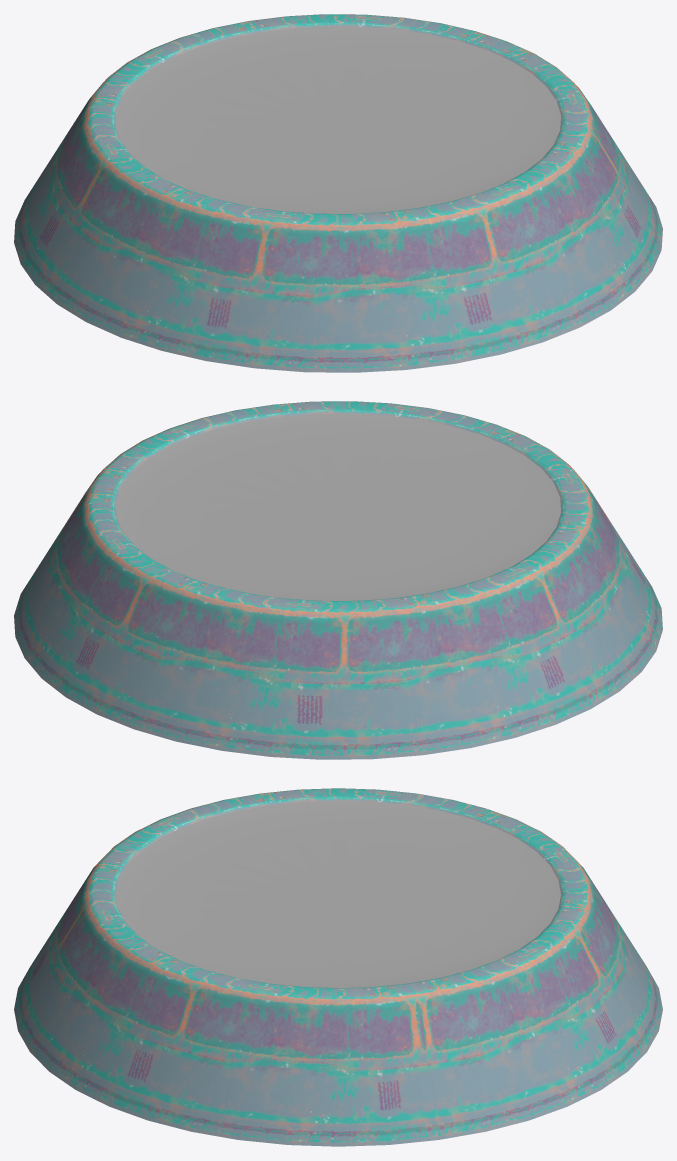
Rendered from platform_small.fbx.
3 views of the same model, one above another, from view 1: azimuth 30°, elevation 25°; view 2: azimuth 150°, elevation 25°; view 3: azimuth 270°, elevation 25° (orthographic).
Parts seen in each view (by area): view 1: platformBase, platformFloor; view 2: platformBase, platformFloor; view 3: platformBase, platformFloor.
Part boxes in pixels (x1=…): platformBase: x1=14, y1=14, x2=662, y2=372; platformFloor: x1=116, y1=26, x2=560, y2=213; platformBase: x1=14, y1=401, x2=662, y2=759; platformFloor: x1=116, y1=413, x2=560, y2=600; platformBase: x1=14, y1=788, x2=662, y2=1146; platformFloor: x1=116, y1=800, x2=560, y2=987.
Size of the model in its own units: 1849 by 369 by 1849.
